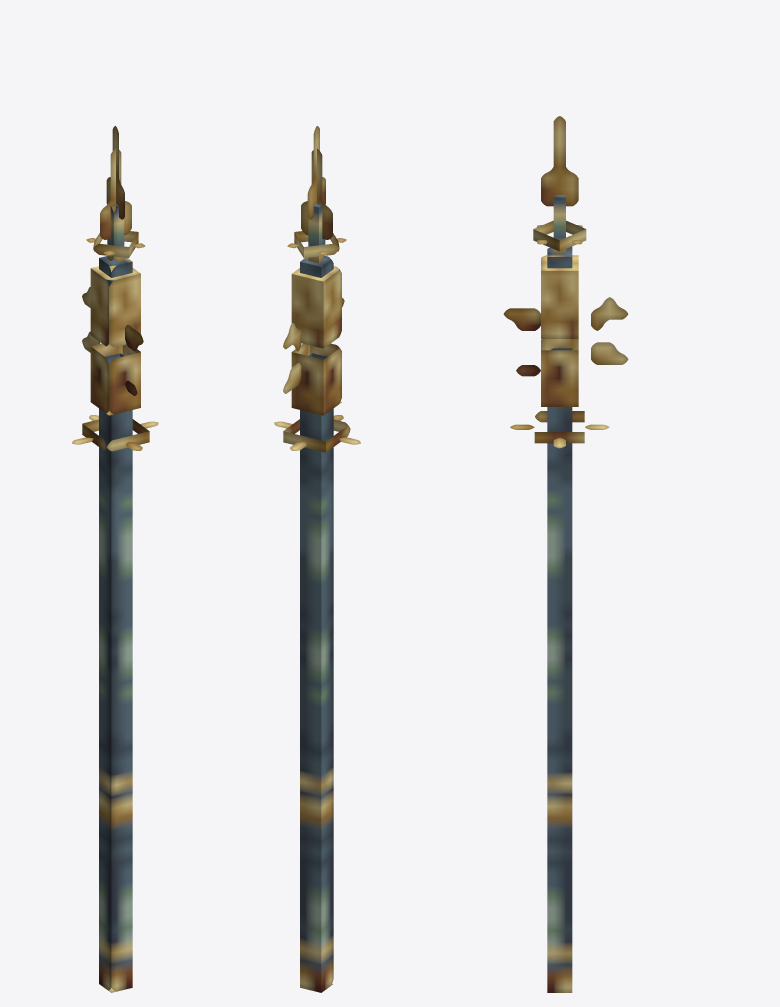
File: soul_render.obj
The picture shows the model from 3 angles, left to right: view 1: azimuth 30°, elevation 25°; view 2: azimuth 150°, elevation 25°; view 3: azimuth 270°, elevation 25°; orthographic projection.
Visible parts, largest first — view 1: root/halberd, root/halberd/halberd2; view 2: root/halberd, root/halberd/halberd2; view 3: root/halberd, root/halberd/halberd2.
Boxes of the visible parts, <box> form: root/halberd: <box>72,126,158,992</box>; root/halberd/halberd2: <box>86,231,145,258</box>; root/halberd: <box>274,126,360,992</box>; root/halberd/halberd2: <box>287,231,346,258</box>; root/halberd: <box>503,116,628,992</box>; root/halberd/halberd2: <box>533,220,586,251</box>.
Size of the model in its own units: 8.12 by 86 by 28.
Materials: 1 (1 with a texture image).
